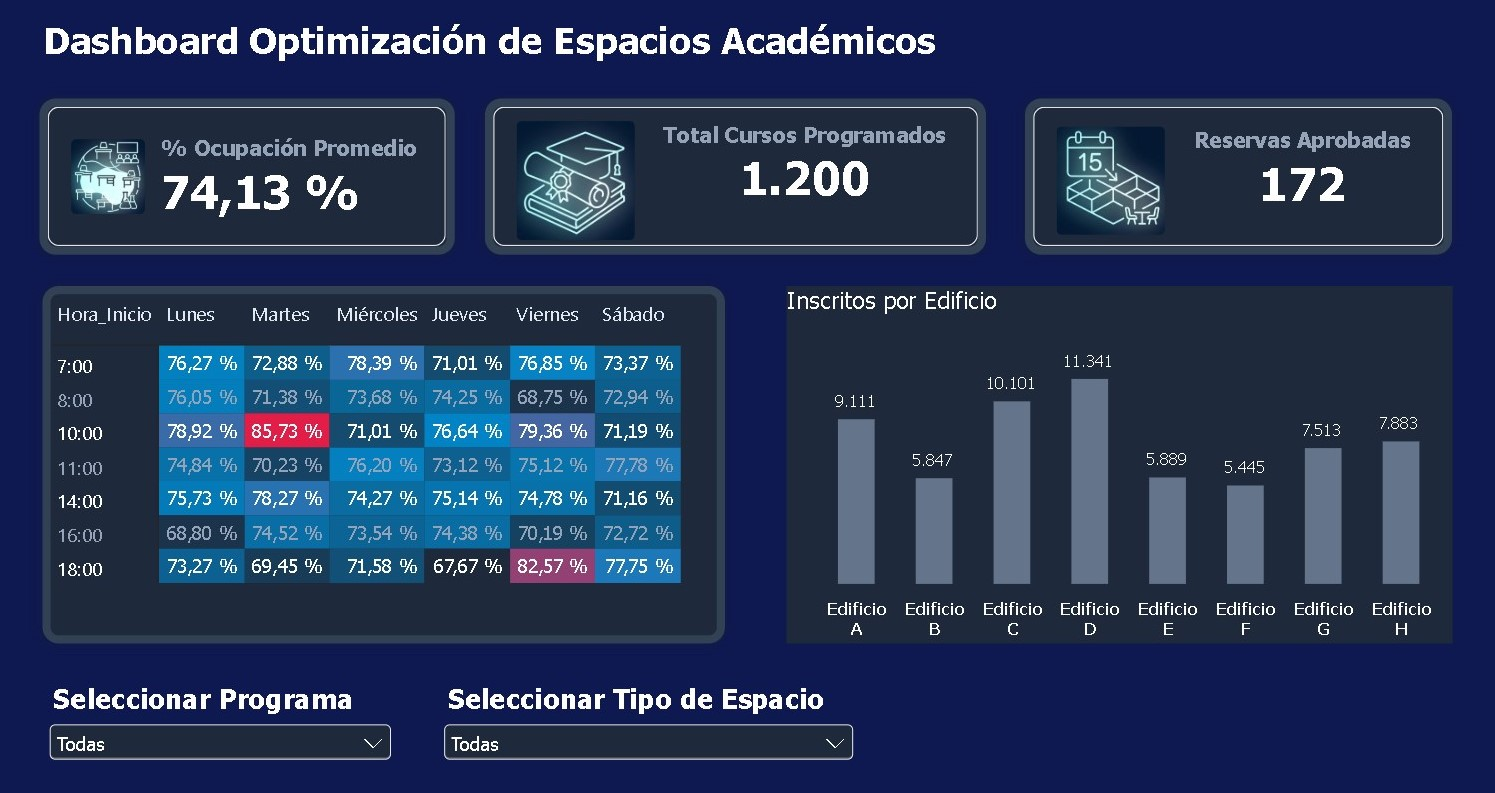

Layout of this report page (visuals, bound fields, positions):
{"tool":"powerbi","page":{"name":"Página 1","canvas":[1115,610],"ordinal":0},"visuals":[{"type":"cardVisual","fields":{"Data":["KPIs.% Ocupacion Promedio"]},"box":[31.7,85,306.7,115],"z":1000},{"type":"cardVisual","fields":{"Data":["KPIs.Reservas Aprobadas"]},"box":[760,85,315,115],"z":2000},{"type":"pivotTable","fields":{"Columns":["Programacion_Academica.Dia"],"Rows":["Programacion_Academica.Hora_Inicio"],"Values":["KPIs.% Ocupacion Promedio"]},"box":[34,224,504,264],"z":3000},{"type":"columnChart","title":"Inscritos por Edificio","fields":{"Category":["Aulas.Edificio"],"Y":["Sum(Programacion_Academica.Inscritos)"]},"box":[584,224,492,264],"z":4000},{"type":"slicer","title":"Filtrar por Tipo  de Espacio","fields":{"Values":["Aulas.Tipo_Espacio"]},"box":[325.7,515.7,312,96],"z":5000},{"type":"slicer","title":"Filtrar por Programa","fields":{"Values":["Programacion_Academica.Programa"]},"box":[34.3,515.7,262,76],"z":6000},{"type":"textbox","box":[34,26,1534,36],"z":8000},{"type":"cardVisual","fields":{"Data":["KPIs.Total Cursos"]},"box":[361.7,85,370,115],"z":9000}]}

Visuals, with their boxes on the page's 1115x610 design canvas (x1, y1, x2, y2). These are canvas units, not pixel positions in the 1495x793 screenshot, which may show the page scaled, cropped or inside an application window:
cardVisual - KPIs.% Ocupacion Promedio: l=32, t=85, r=338, b=200
cardVisual - KPIs.Reservas Aprobadas: l=760, t=85, r=1075, b=200
pivotTable - Programacion_Academica.Dia x Programacion_Academica.Hora_Inicio: l=34, t=224, r=538, b=488
"Inscritos por Edificio" columnChart: l=584, t=224, r=1076, b=488
"Filtrar por Tipo  de Espacio" slicer: l=326, t=516, r=638, b=612
"Filtrar por Programa" slicer: l=34, t=516, r=296, b=592
textbox: l=34, t=26, r=1568, b=62
cardVisual - KPIs.Total Cursos: l=362, t=85, r=732, b=200
